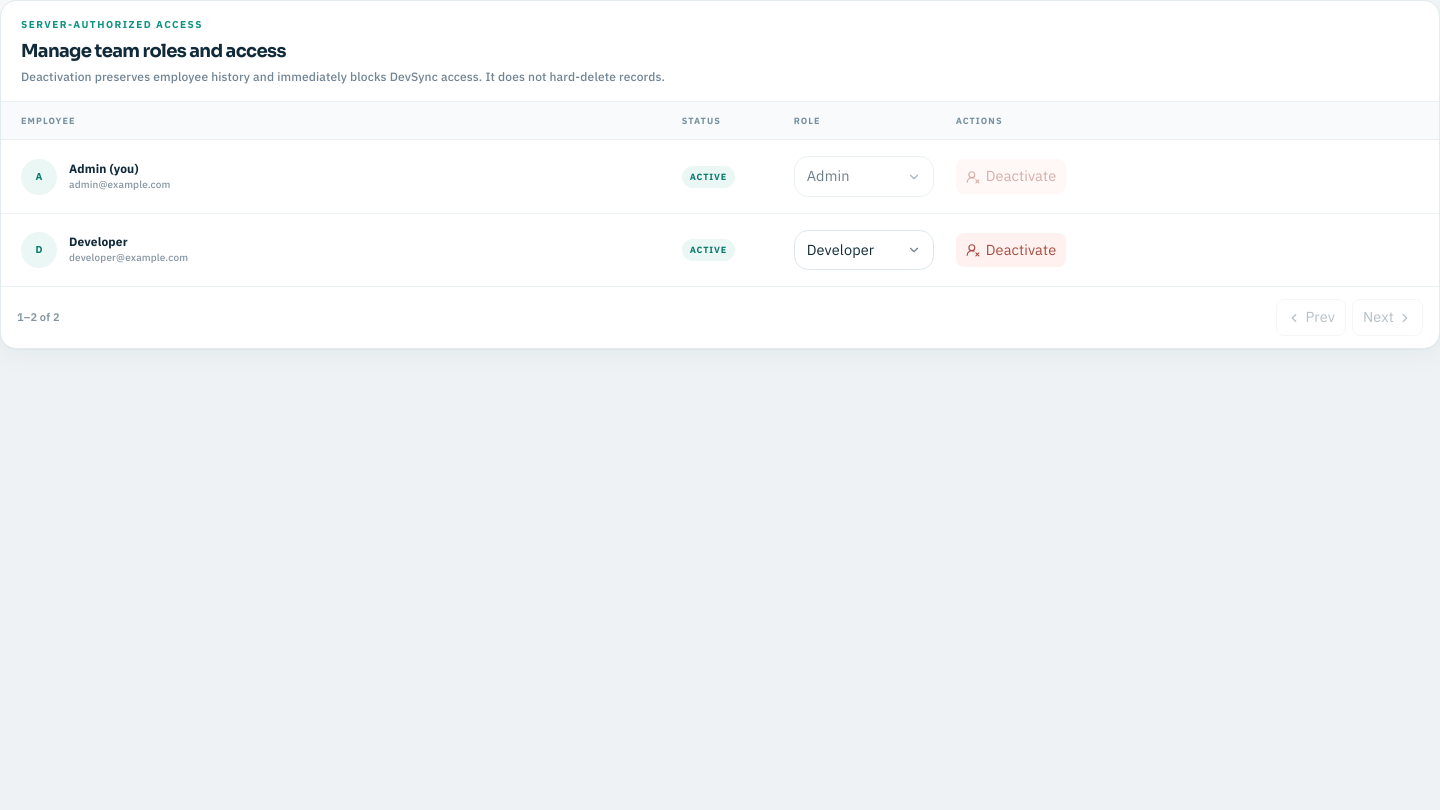
Test: AccessControlPanel › surfaces a failed activity change as a visually distinct, clear status without changing the employee
Click the button "Deactivate" in the row of "developer@example.com" at (1011, 250), box 956,233 -> 1066,267
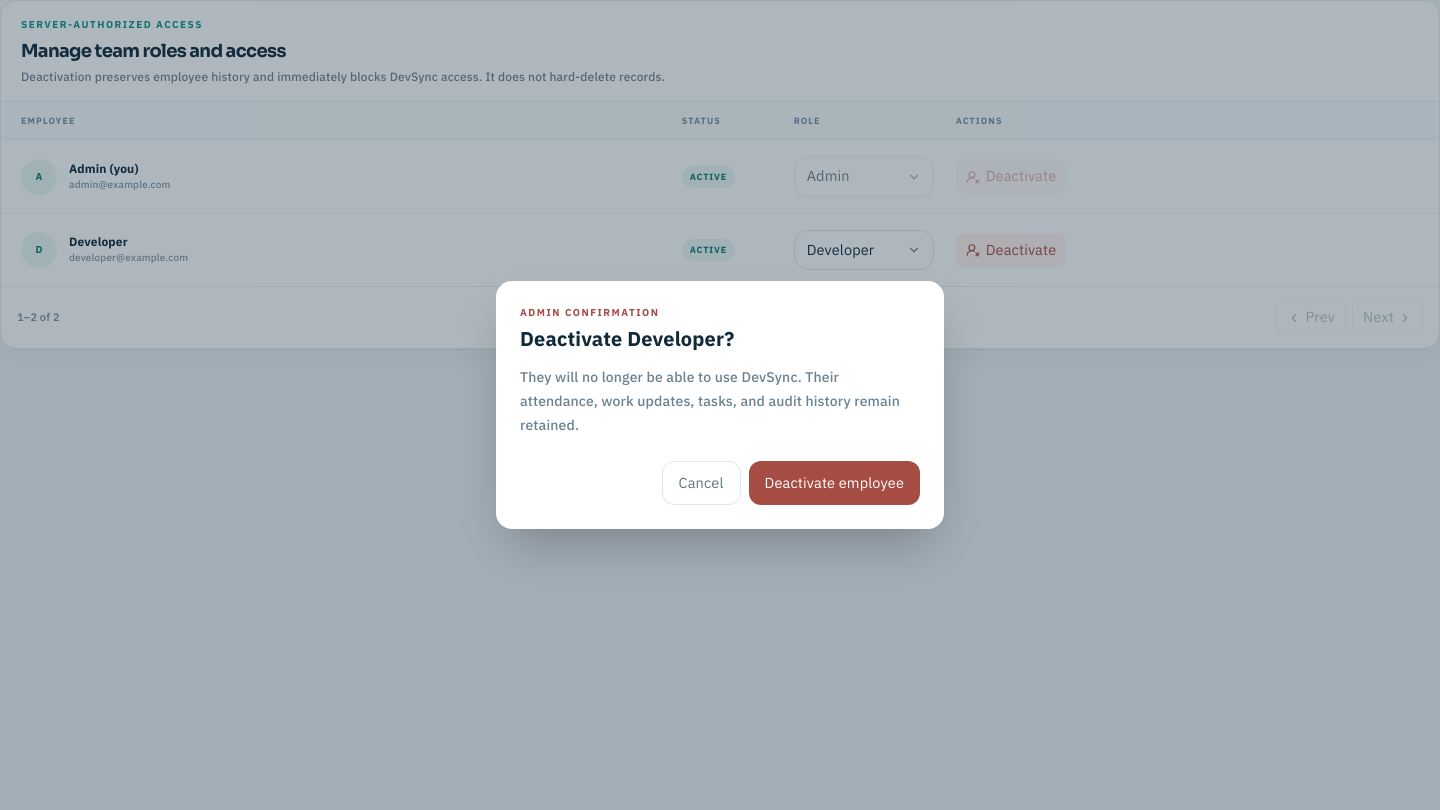
Click the button "Deactivate employee" at (834, 483), box 748,460 -> 920,505
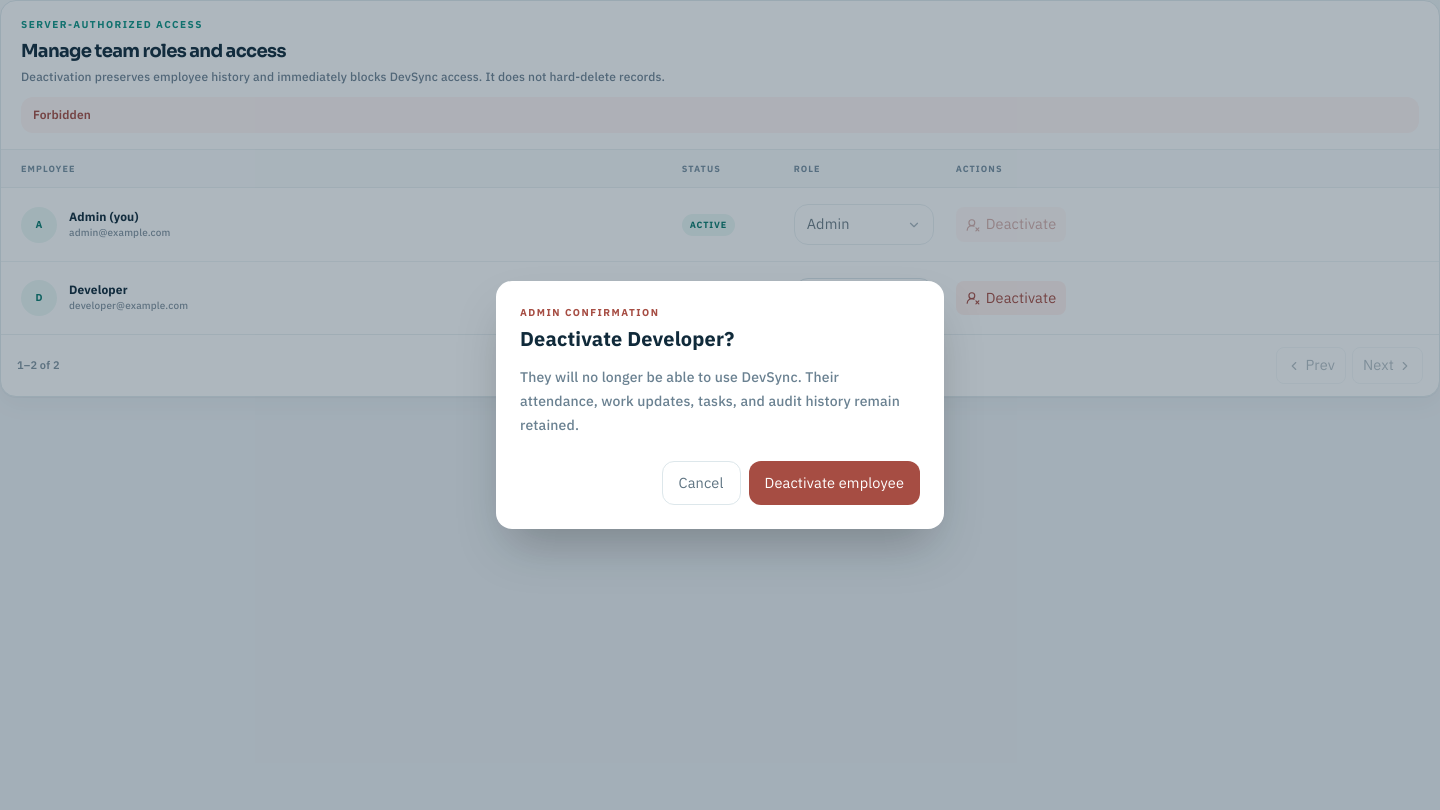
Now the message reads "Forbidden", box 33,106 -> 91,122
